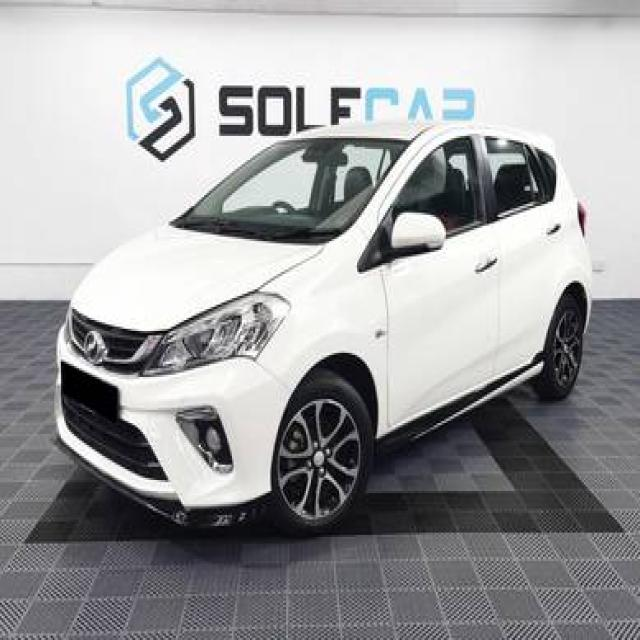PeroduaMyvi: (51, 116, 594, 535)
